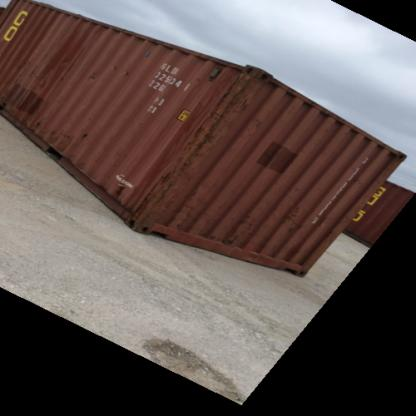Damage: (176, 68, 254, 168), (25, 48, 76, 84), (222, 206, 257, 256), (138, 169, 176, 212), (26, 110, 66, 149), (106, 61, 136, 86), (286, 195, 304, 235), (111, 174, 134, 202), (74, 123, 98, 145), (88, 62, 99, 86)
